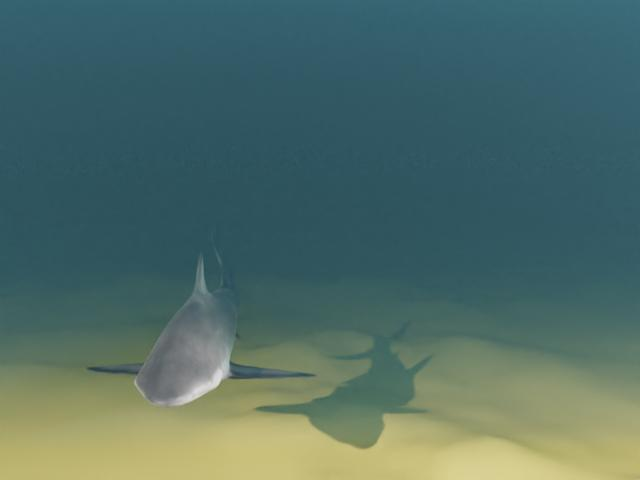Carribean Shark.001: (85, 222, 316, 407)
